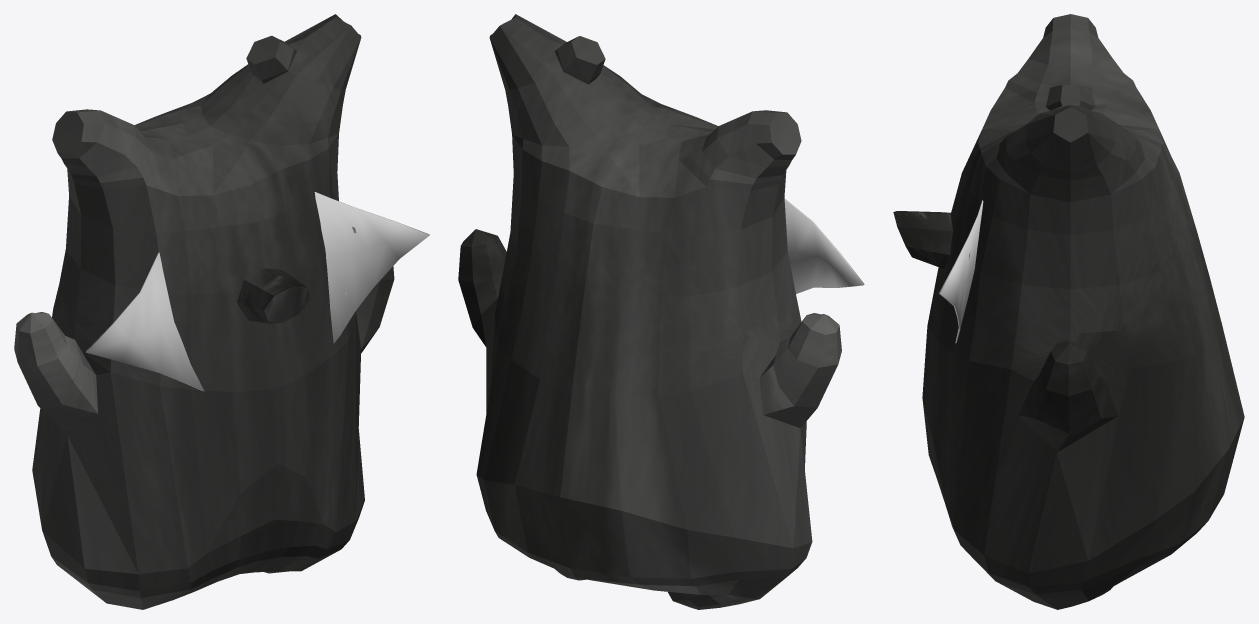
Rendered from frame_0058.obj.
3 renders of one model, left to right at view 1: azimuth 30°, elevation 25°; view 2: azimuth 150°, elevation 25°; view 3: azimuth 270°, elevation 25°, orthographic. The views are drawn at different scales.
Parts seen in each view (by area): view 1: korok, leaf, nose; view 2: korok, leaf; view 3: korok, nose, leaf.
Part boxes in pixels (left/top/right/bottom): korok: left=14, top=14, right=394, bottom=609; leaf: left=86, top=192, right=429, bottom=391; nose: left=237, top=267, right=309, bottom=323; korok: left=458, top=14, right=841, bottom=609; leaf: left=784, top=198, right=864, bottom=293; korok: left=922, top=14, right=1244, bottom=609; nose: left=893, top=211, right=952, bottom=268; leaf: left=939, top=200, right=983, bottom=343.
Size of the model in its own units: 1.53 by 2.08 by 1.26.
